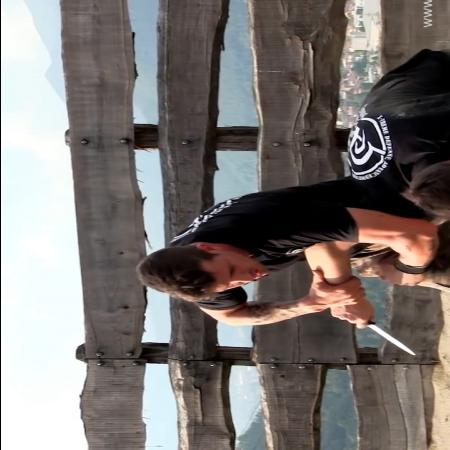long weapon: (329, 308, 419, 361)
